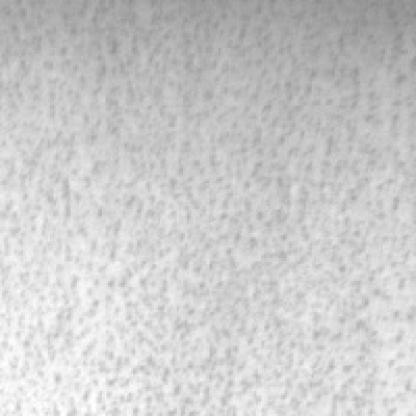pitted_surface: (2, 0, 404, 404)
